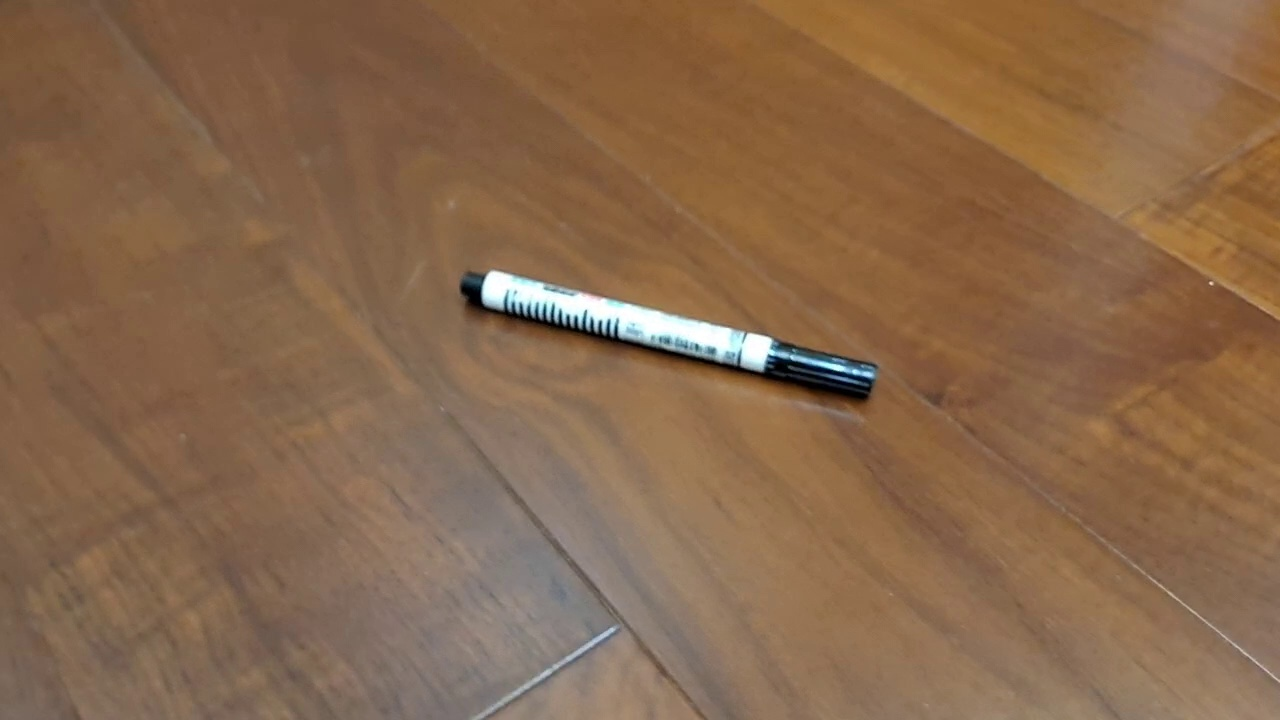pen: (458, 268, 880, 402)
